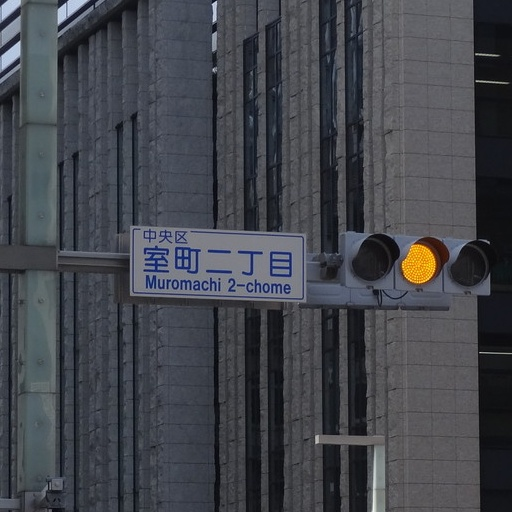Traffic_Signal_Yellow: (349, 233, 496, 295)
